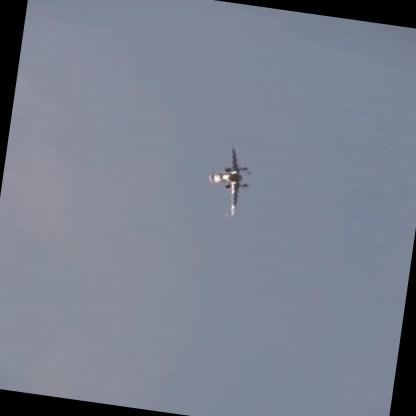plane: (192, 133, 259, 222)
